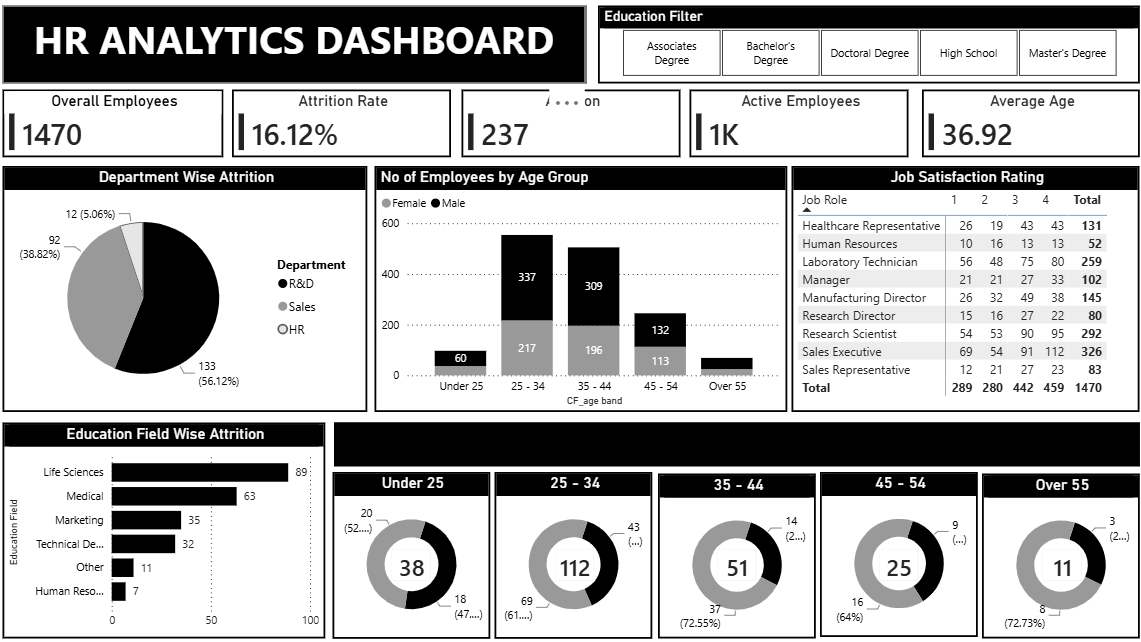

Layout of this report page (visuals, bound fields, positions):
{"tool":"powerbi","page":{"name":"Page 1","canvas":[1280,720],"ordinal":0},"visuals":[{"type":"cardVisual","title":"Overall Employees","fields":{"Data":["Sum(HR data.Employee Count)"]},"box":[8.3,101.7,245,75],"z":0},{"type":"cardVisual","title":"Attrition","fields":{"Data":["Sum(HR data.Attrition Count)"]},"box":[518.3,101.7,243.3,75],"z":1000},{"type":"cardVisual","title":"Attrition Rate","fields":{"Data":["HR data.Attrition Rate"]},"box":[263.3,101.7,243.3,75],"z":2000},{"type":"cardVisual","title":"Active Employees","fields":{"Data":["HR data.Active Employees"]},"box":[771.7,101.7,243.3,75],"z":3000},{"type":"cardVisual","title":"Average Age","fields":{"Data":["Avg(HR data.Age)"]},"box":[1030,101.7,241.7,75],"z":4000},{"type":"pieChart","title":"Department Wise Attrition","fields":{"Category":["HR data.Department"],"Y":["Sum(HR data.Attrition Count)"]},"box":[8.3,186.7,405,273.3],"z":5000},{"type":"columnChart","title":"No of Employees by Age Group","fields":{"Category":["HR data.CF_age band"],"Y":["Sum(HR data.Employee Count)"],"Series":["HR data.Gender"]},"box":[421.7,186.7,458.3,273.3],"z":6000},{"type":"pivotTable","title":"Job Satisfaction Rating","fields":{"Rows":["HR data.Job Role"],"Columns":["HR data.Job Satisfaction"],"Values":["Sum(HR data.Employee Count)"]},"box":[885,186.7,386.7,273.3],"z":7000},{"type":"barChart","title":"Education Field Wise Attrition","fields":{"Category":["HR data.Education Field"],"Y":["Sum(HR data.Attrition Count)"]},"box":[8.3,471.7,358.3,240],"z":8000},{"type":"donutChart","title":"Under 25","fields":{"Category":["HR data.Gender"],"Y":["Sum(HR data.Attrition Count)"],"Series":["HR data.CF_age band"]},"box":[375,526.7,175,185],"z":9000},{"type":"donutChart","title":"25 - 34","fields":{"Category":["HR data.Gender"],"Y":["Sum(HR data.Attrition Count)"],"Series":["HR data.CF_age band"]},"box":[555,526.7,175,185],"z":10000},{"type":"donutChart","title":"35 - 44","fields":{"Category":["HR data.Gender"],"Y":["Sum(HR data.Attrition Count)"],"Series":["HR data.CF_age band"]},"box":[736.7,528.3,175,183.3],"z":11000},{"type":"donutChart","title":"45 - 54","fields":{"Category":["HR data.Gender"],"Y":["Sum(HR data.Attrition Count)"],"Series":["HR data.CF_age band"]},"box":[916.7,526.7,175,183.3],"z":12000},{"type":"donutChart","title":"Over 55","fields":{"Category":["HR data.Gender"],"Y":["Sum(HR data.Attrition Count)"],"Series":["HR data.CF_age band"]},"box":[1096.7,528.3,175,183.3],"z":13000},{"type":"cardVisual","fields":{"Data":["Sum(HR data.Attrition Count)"]},"box":[435.6,606.1,54,46],"z":14000},{"type":"cardVisual","fields":{"Data":["Sum(HR data.Attrition Count)"]},"box":[617.2,606.1,54,46],"z":15000},{"type":"cardVisual","fields":{"Data":["Sum(HR data.Attrition Count)"]},"box":[797.2,606.1,54,46],"z":16000},{"type":"cardVisual","fields":{"Data":["Sum(HR data.Attrition Count)"]},"box":[977.2,606.1,54,46],"z":17000},{"type":"cardVisual","fields":{"Data":["Sum(HR data.Attrition Count)"]},"box":[1158.9,606.1,54,46],"z":18000},{"type":"textbox","box":[8.3,8.3,648.3,86.7],"z":19000},{"type":"slicer","title":"Education Filter","fields":{"Values":["HR data.Education"]},"box":[670,8.3,601.7,86.7],"z":20000},{"type":"textbox","box":[376.7,471.7,895,48.3],"z":21000}]}

Visuals, with their boxes in screenshot pixels (x1, y1, x2, y2), scaled from the page's 1280x720 canvas onto the 1141x642 screenshot:
"Overall Employees" cardVisual: x1=7, y1=91, x2=226, y2=158
"Attrition" cardVisual: x1=462, y1=91, x2=679, y2=158
"Attrition Rate" cardVisual: x1=235, y1=91, x2=452, y2=158
"Active Employees" cardVisual: x1=688, y1=91, x2=905, y2=158
"Average Age" cardVisual: x1=918, y1=91, x2=1134, y2=158
"Department Wise Attrition" pieChart: x1=7, y1=166, x2=368, y2=410
"No of Employees by Age Group" columnChart: x1=376, y1=166, x2=784, y2=410
"Job Satisfaction Rating" pivotTable: x1=789, y1=166, x2=1134, y2=410
"Education Field Wise Attrition" barChart: x1=7, y1=421, x2=327, y2=635
"Under 25" donutChart: x1=334, y1=470, x2=490, y2=635
"25 - 34" donutChart: x1=495, y1=470, x2=651, y2=635
"35 - 44" donutChart: x1=657, y1=471, x2=813, y2=635
"45 - 54" donutChart: x1=817, y1=470, x2=973, y2=633
"Over 55" donutChart: x1=978, y1=471, x2=1134, y2=635
cardVisual - Sum(HR data.Attrition Count): x1=388, y1=540, x2=436, y2=581
cardVisual - Sum(HR data.Attrition Count): x1=550, y1=540, x2=598, y2=581
cardVisual - Sum(HR data.Attrition Count): x1=711, y1=540, x2=759, y2=581
cardVisual - Sum(HR data.Attrition Count): x1=871, y1=540, x2=919, y2=581
cardVisual - Sum(HR data.Attrition Count): x1=1033, y1=540, x2=1081, y2=581
textbox: x1=7, y1=7, x2=585, y2=85
"Education Filter" slicer: x1=597, y1=7, x2=1134, y2=85
textbox: x1=336, y1=421, x2=1134, y2=464
